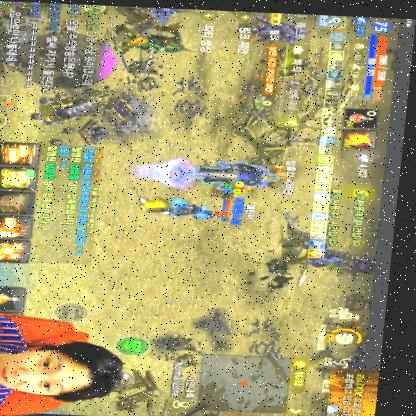streamer: (0, 299, 140, 416)
